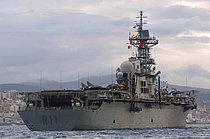MIL_Ship: (16, 10, 198, 130)
